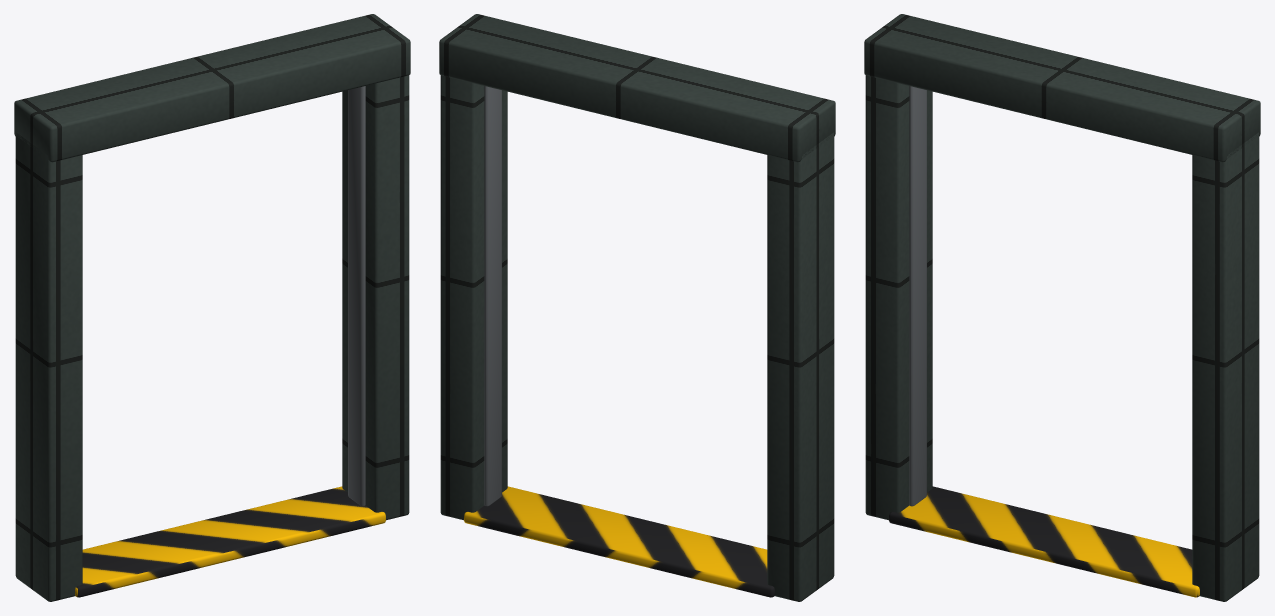
The model's file is WK_DOOR_BULKHEAD_A_01.glb.
The picture shows the model from 3 angles, left to right: view 1: azimuth 30°, elevation 25°; view 2: azimuth 150°, elevation 25°; view 3: azimuth 330°, elevation 25°; orthographic projection.
Visible parts, largest first — view 1: WK_DOOR_BULKHEAD_A_01; view 2: WK_DOOR_BULKHEAD_A_01; view 3: WK_DOOR_BULKHEAD_A_01.
Part boxes in pixels (x1,y1,x2,y2): WK_DOOR_BULKHEAD_A_01: (14, 14, 410, 601); WK_DOOR_BULKHEAD_A_01: (439, 14, 835, 601); WK_DOOR_BULKHEAD_A_01: (864, 14, 1260, 601).
Bounding box in the file's own units: 2.1 × 2.65 × 0.4.
4 materials, 2 textured.
